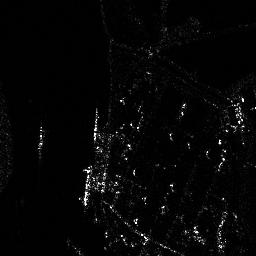ship: (80, 164, 94, 207), (92, 106, 99, 144)
